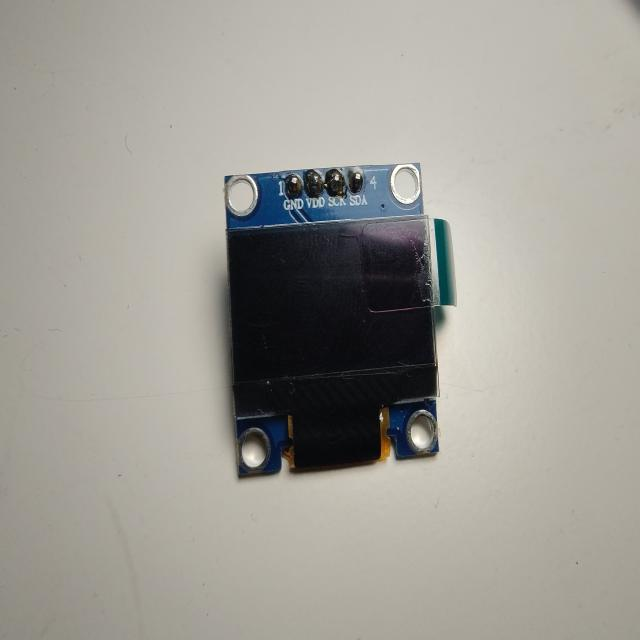oled: (217, 159, 464, 475)
